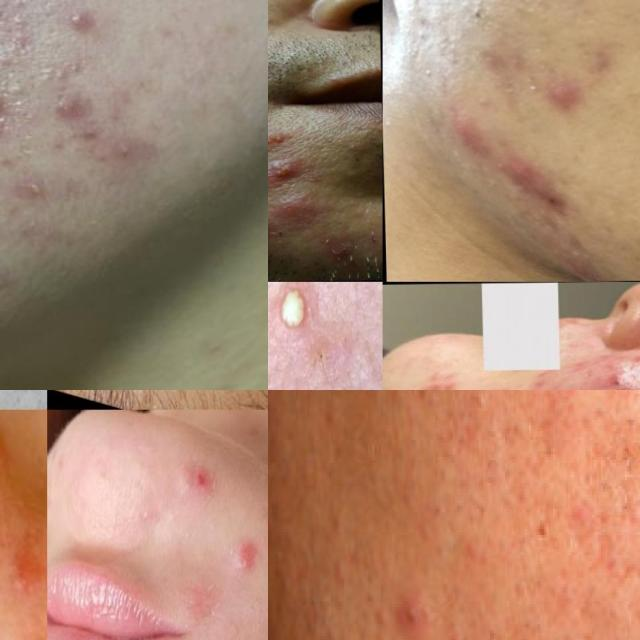acne_scars: (500, 156, 575, 220), (450, 119, 491, 159), (408, 379, 461, 390)
comedone: (506, 3, 556, 21), (471, 90, 494, 114), (414, 64, 442, 81), (412, 24, 435, 43), (383, 113, 400, 135), (500, 85, 518, 99), (526, 82, 541, 98)
cystic: (270, 160, 300, 183), (280, 195, 306, 219)
papule: (0, 507, 47, 608), (52, 82, 105, 148), (49, 5, 105, 59), (219, 520, 261, 583), (538, 78, 592, 112), (0, 112, 18, 148), (594, 373, 631, 390)
pustule: (268, 281, 319, 353)
sebo-crystan-conglo: (268, 129, 291, 149), (630, 350, 640, 373)
